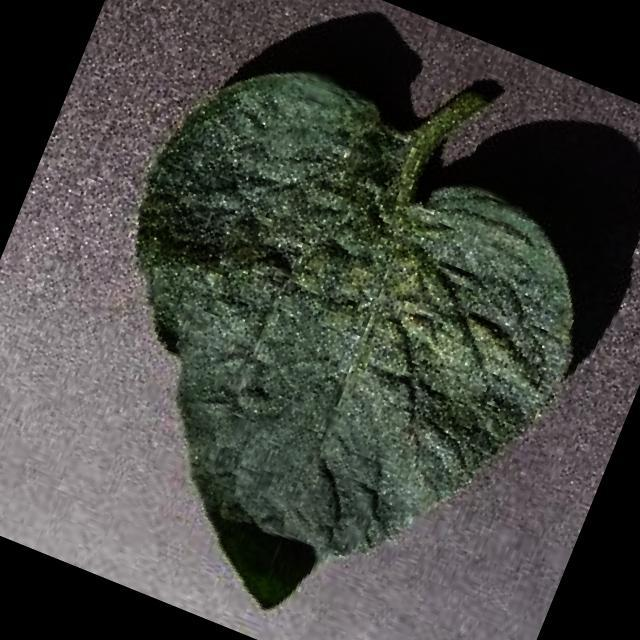Tomato spider mites leaf: (9, 27, 637, 640)
